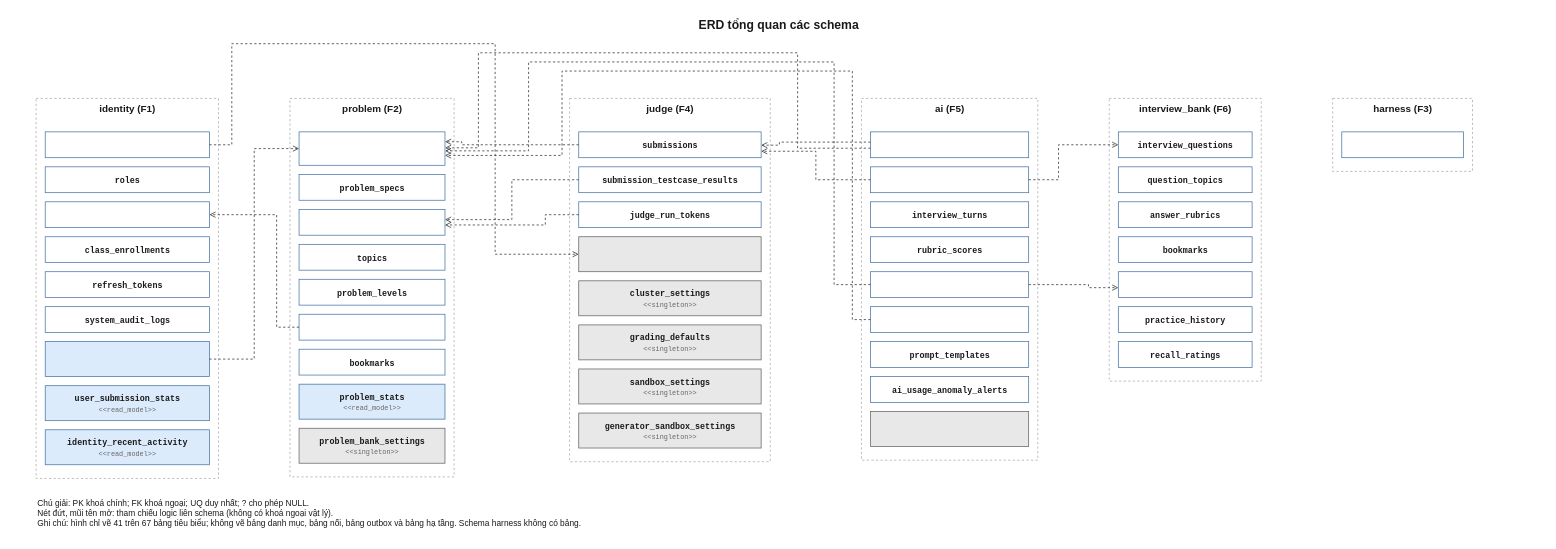
The diagram is 1556 pixels wide and 549 high, and some of its shapes have lost their labels. Each missing label, with the centre of its shape:
"ai_cache_entries" belongs at point 949,319.
"ai_token_budget_configs <<singleton>>" belongs at point 949,428.
"class_assignments" belongs at point 371,327.
"classes" belongs at point 126,214.
"interview_sessions" belongs at point 949,179.
"không có bảng" belongs at point 1402,144.
"language_configs <<seed>>" belongs at point 669,254.
"problems" belongs at point 371,148.
"solution_reviews" belongs at point 949,144.
"testcases" belongs at point 371,222.
"token_usage" belongs at point 949,284.
"user_answers" belongs at point 1185,284.
"user_problem_best_score <<read_model>>" belongs at point 126,359.
"users" belongs at point 126,144.
